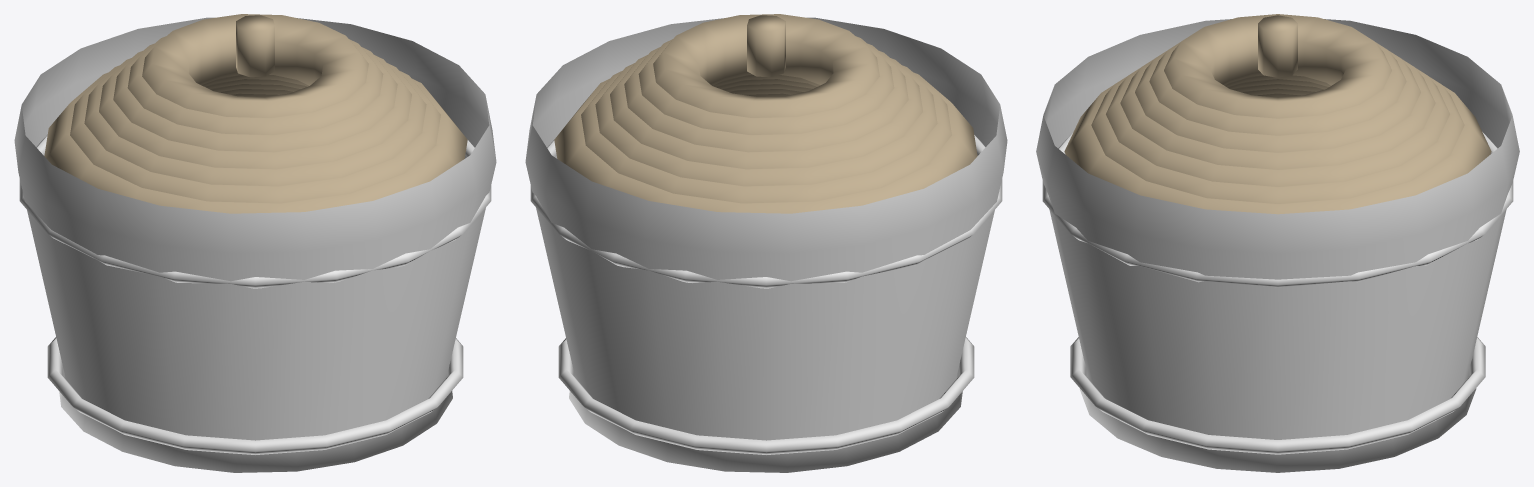
The model's file is line_tub_fwd.fbx.
The picture shows the model from 3 angles, left to right: view 1: azimuth 30°, elevation 25°; view 2: azimuth 150°, elevation 25°; view 3: azimuth 270°, elevation 25°; orthographic projection.
Visible parts, largest first — view 1: Line_Tub_Fwd; view 2: Line_Tub_Fwd; view 3: Line_Tub_Fwd.
Part boxes in pixels (x1,y1,x2,y2): Line_Tub_Fwd: [14, 14, 496, 472]; Line_Tub_Fwd: [525, 14, 1007, 472]; Line_Tub_Fwd: [1036, 14, 1519, 472].
Size of the model in its own units: 48 by 40 by 48.
